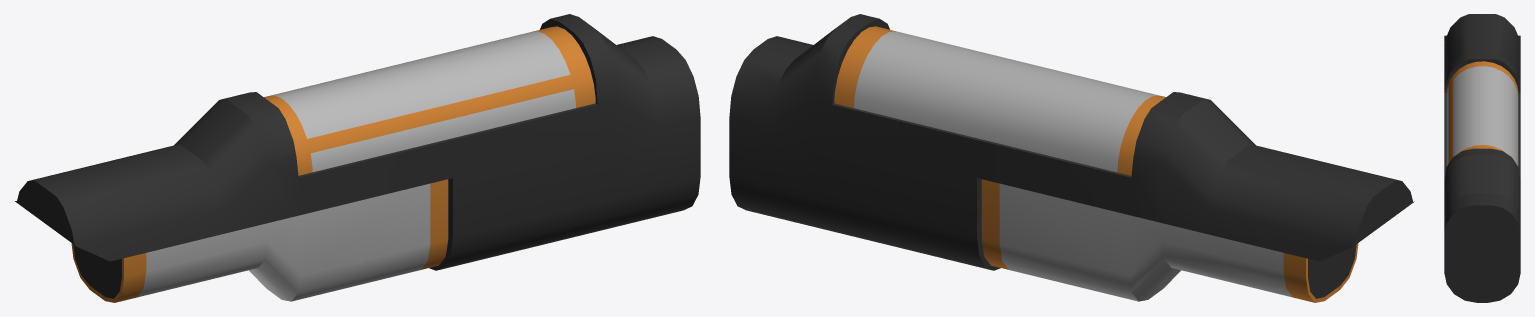
Rendered from Body_SMG_1.gltf.
The picture shows the model from 3 angles, left to right: view 1: azimuth 30°, elevation 25°; view 2: azimuth 150°, elevation 25°; view 3: azimuth 270°, elevation 25°; orthographic projection. The views are drawn at different scales.
Parts seen in each view (by area): view 1: Body_SMG_1; view 2: Body_SMG_1; view 3: Body_SMG_1.
Boxes of the visible parts, x1,y1,x2,y2 form: Body_SMG_1: [15, 14, 700, 302]; Body_SMG_1: [729, 14, 1414, 302]; Body_SMG_1: [1444, 14, 1520, 302].
Size of the model in its own units: 0.8824 by 0.2726 by 0.1529.
